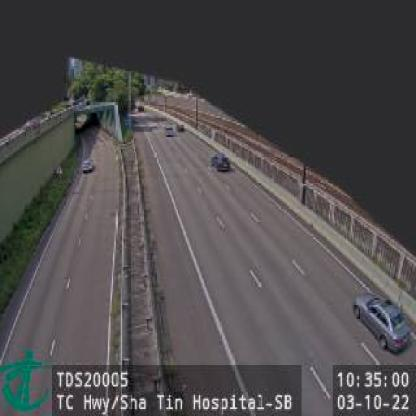Car: (354, 293, 408, 352), (211, 152, 230, 172), (80, 160, 90, 172)
